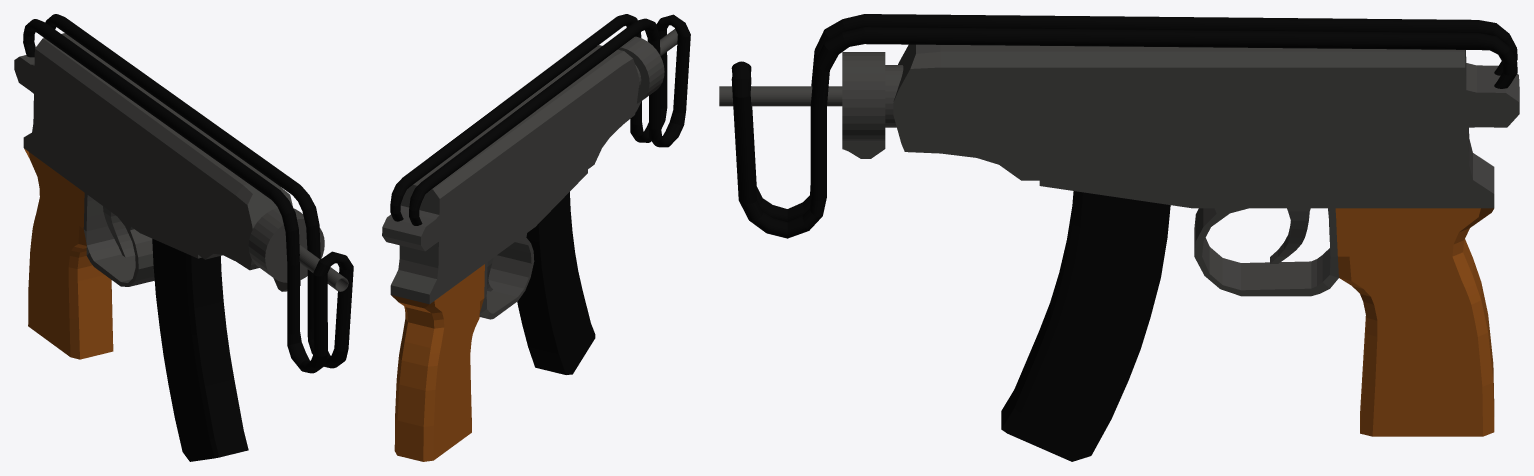
Rendered from Scorpion VZ61.fbx.
The picture shows the model from 3 angles, left to right: view 1: azimuth 30°, elevation 25°; view 2: azimuth 150°, elevation 25°; view 3: azimuth 270°, elevation 25°; orthographic projection. The views are drawn at different scales.
Visible parts, largest first — view 1: Scorpion VZ61; view 2: Scorpion VZ61; view 3: Scorpion VZ61.
Boxes of the visible parts, <box> form: Scorpion VZ61: <box>14,14,353,461</box>; Scorpion VZ61: <box>382,14,690,461</box>; Scorpion VZ61: <box>719,14,1519,461</box>.
Bounding box in the file's own units: 0.0334 × 0.1758 × 0.2966.
